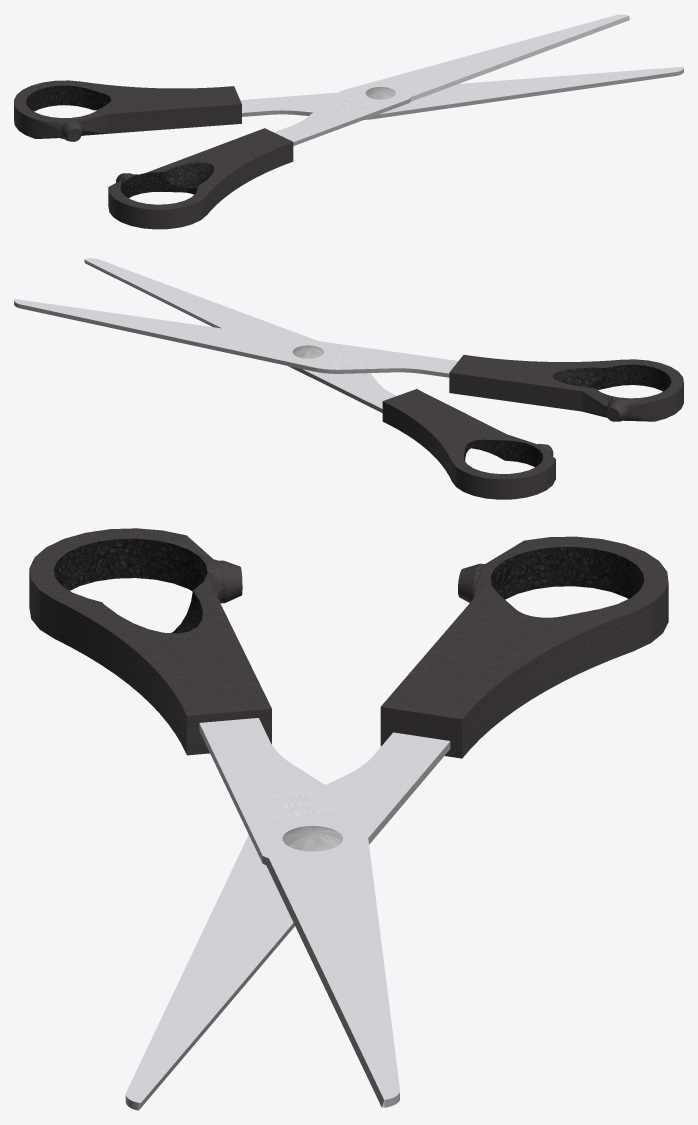
The model's file is scissors_03_origin.dae.
3 renders of one model, top to bottom at view 1: azimuth 30°, elevation 25°; view 2: azimuth 150°, elevation 25°; view 3: azimuth 270°, elevation 25°, orthographic. The views are drawn at different scales.
Visible parts, largest first — view 1: scissors (×8); view 2: scissors (×8); view 3: scissors (×9).
Part boxes in pixels (x1,y1,x2,y2): scissors (×8): [14, 14, 683, 229]; scissors (×8): [14, 258, 683, 499]; scissors (×9): [29, 528, 668, 1109].
Size of the model in its own units: 10.98 by 5.26 by 0.4137.
6 materials, 5 textured.
